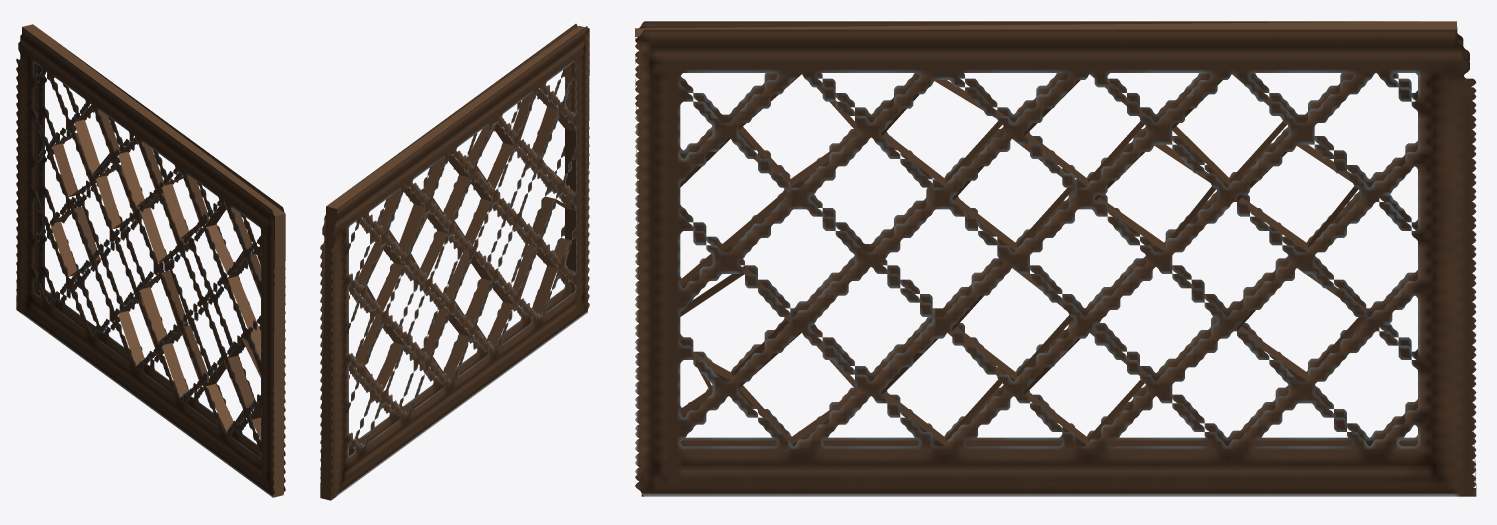
Rendered from pz_native_fixtures_windows_church_8_frame.obj.
3 renders of one model, left to right at view 1: azimuth 30°, elevation 25°; view 2: azimuth 150°, elevation 25°; view 3: azimuth 270°, elevation 25°, orthographic. The views are drawn at different scales.
Parts seen in each view (by area): view 1: pz_native_fixtures_windows_church_8_frame; view 2: pz_native_fixtures_windows_church_8_frame; view 3: pz_native_fixtures_windows_church_8_frame.
Boxes of the visible parts, left/top/right/bottom form: pz_native_fixtures_windows_church_8_frame: left=16, top=24, right=285, bottom=497; pz_native_fixtures_windows_church_8_frame: left=320, top=24, right=589, bottom=500; pz_native_fixtures_windows_church_8_frame: left=635, top=21, right=1476, bottom=496.
Size of the model in its own units: 0.04 by 1.06 by 1.7.
1 material, 1 textured.
